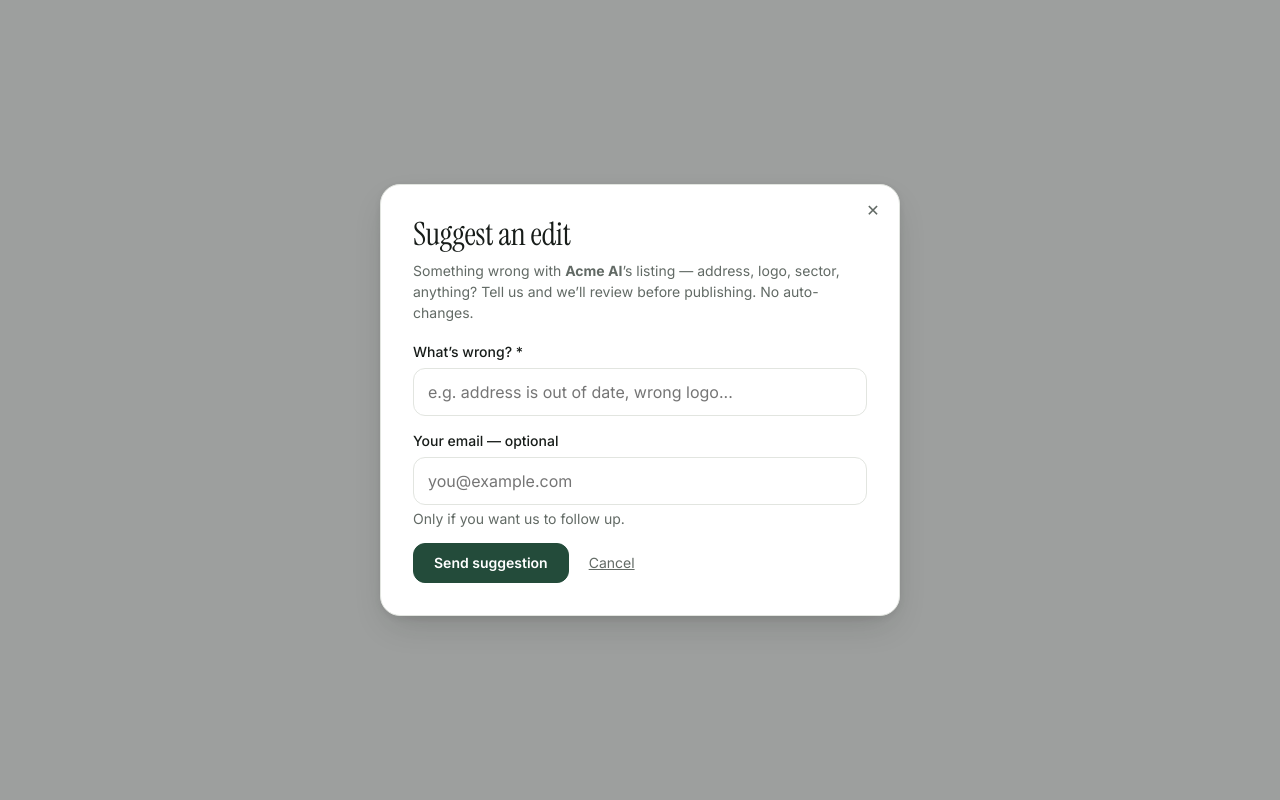
Test case: SuggestEditForm › blocks submission and shows an error when the message is empty
Step 1. Click the button "Send suggestion" → (491, 563), box [413,543,569,583]
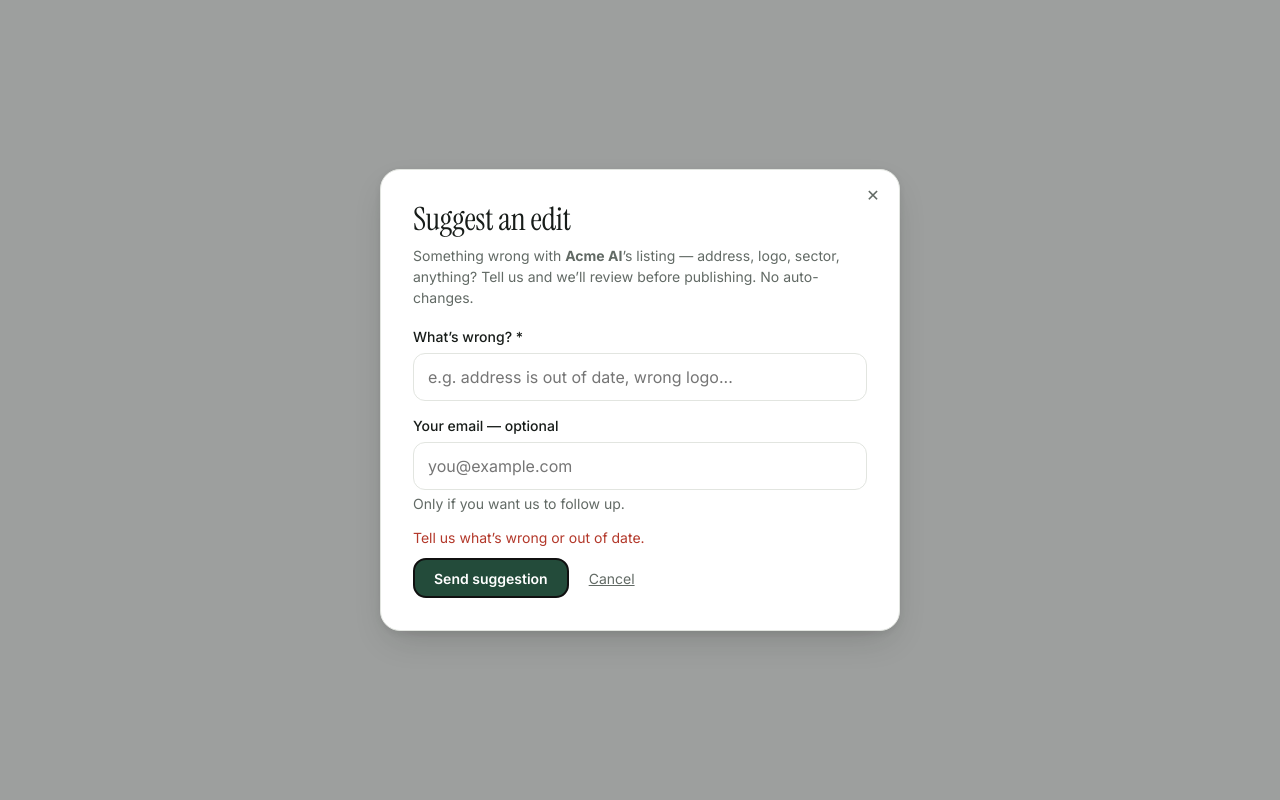
Check: the text "Tell us what’s wrong or out of date." is shown, box [413,529,645,546]
